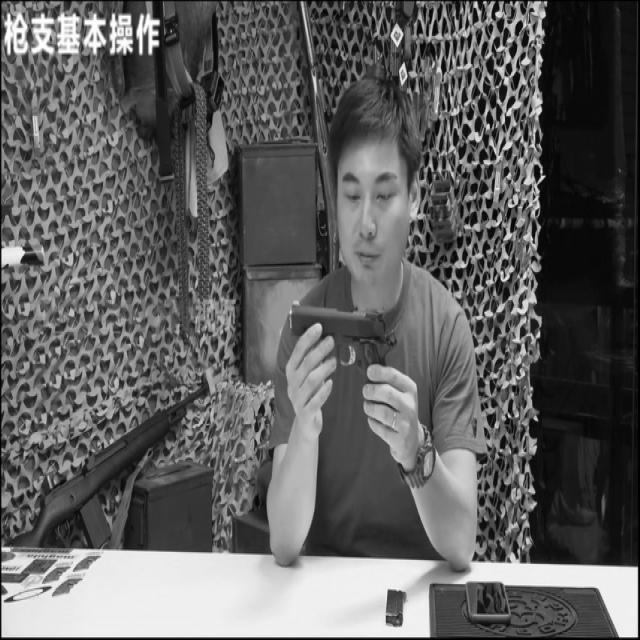Hand-Gun: (284, 282, 401, 422)
